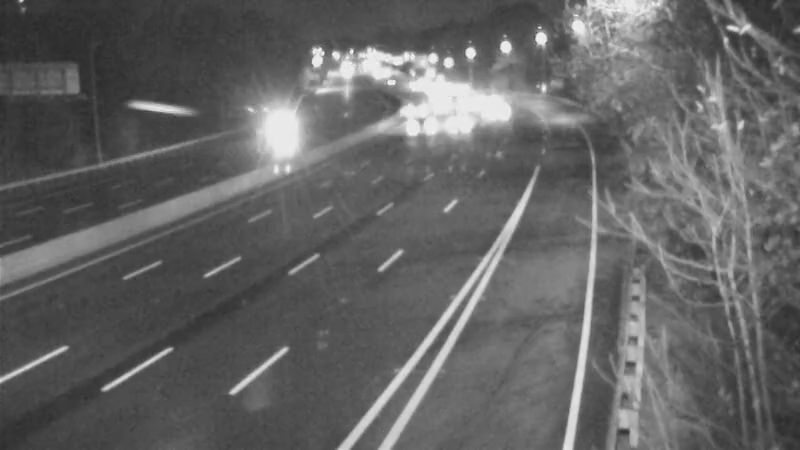vehicle: (390, 79, 440, 129), (470, 88, 520, 138), (436, 98, 486, 148), (405, 99, 455, 149), (271, 94, 321, 144)
